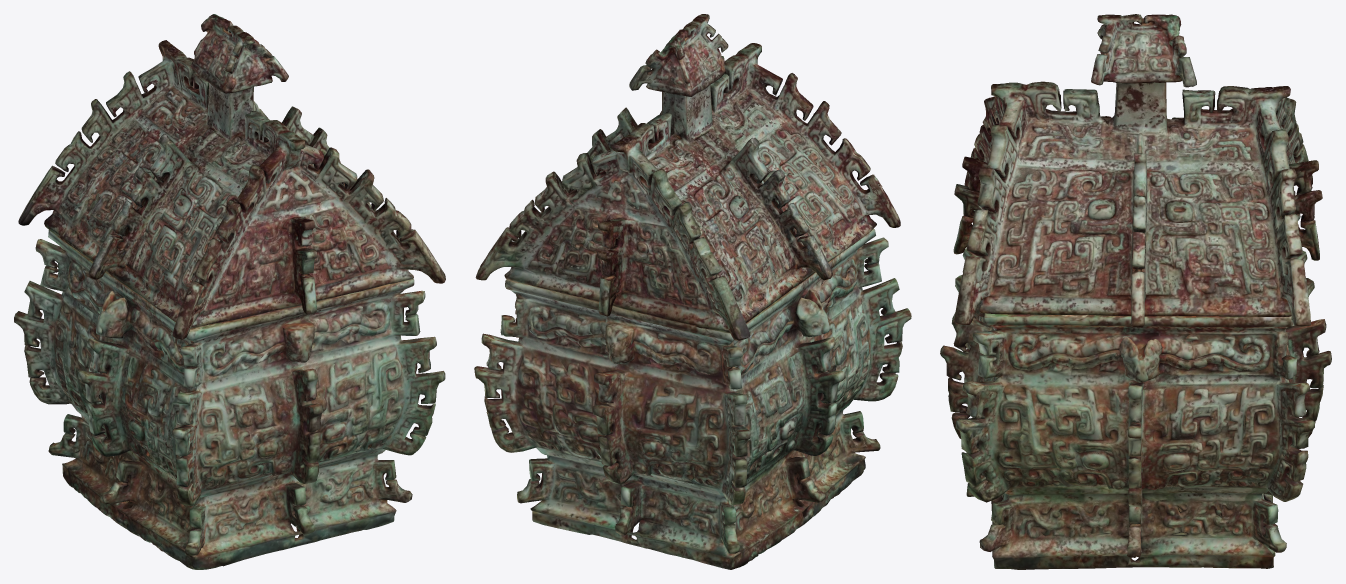
Rendered from vase-fangyi.glb.
3 views of the same model, side by side, from view 1: azimuth 30°, elevation 25°; view 2: azimuth 150°, elevation 25°; view 3: azimuth 270°, elevation 25° (orthographic). The views are drawn at different scales.
Size of the model in its own units: 233 by 354 by 248.
2 materials, 2 textured.
